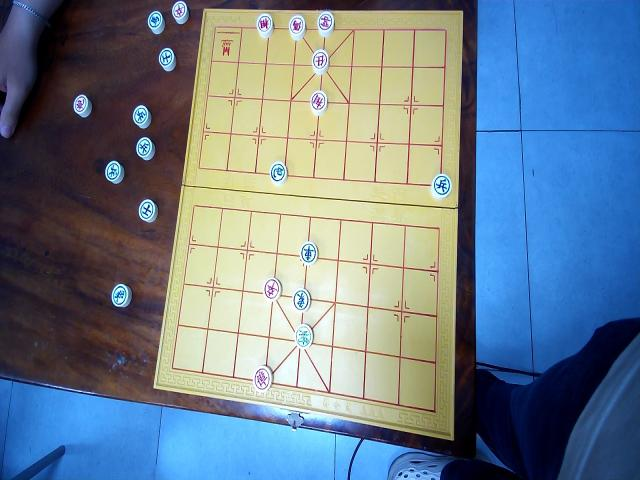piece: (430, 173, 452, 200), (253, 364, 273, 392), (111, 283, 131, 308), (104, 160, 124, 185), (72, 93, 92, 118), (132, 104, 152, 129), (262, 277, 282, 302), (299, 241, 318, 266), (294, 324, 313, 349), (316, 10, 334, 36), (288, 14, 306, 40), (256, 13, 274, 39), (138, 198, 157, 222), (311, 49, 329, 74), (136, 136, 154, 161), (310, 90, 328, 115), (270, 160, 288, 185), (147, 9, 165, 34), (292, 287, 310, 312), (158, 47, 176, 71), (172, 0, 190, 24)
